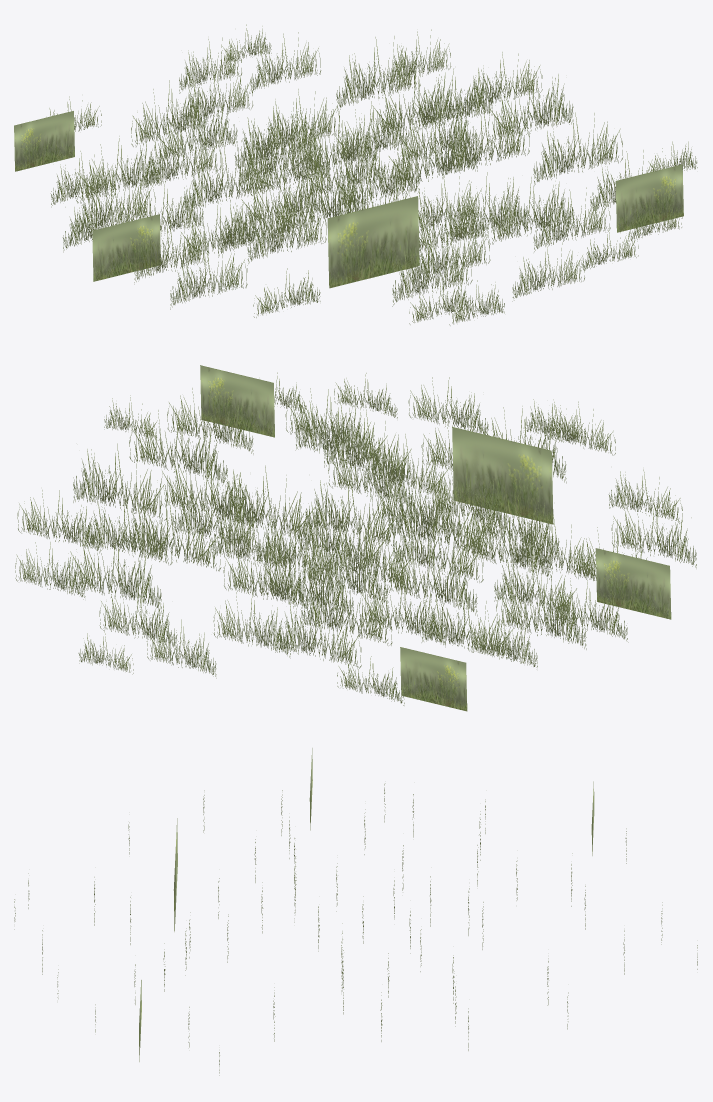
Rendered from grass2.obj.
3 views of the same model, one above another, from view 1: azimuth 30°, elevation 25°; view 2: azimuth 150°, elevation 25°; view 3: azimuth 270°, elevation 25° (orthographic). The views are drawn at different scales.
Parts seen in each view (by area): view 1: grass2; view 2: grass2; view 3: grass2.
Part boxes in pixels (left/top/right/bottom): grass2: left=14, top=24, right=697, bottom=325; grass2: left=15, top=365, right=696, bottom=711; grass2: left=14, top=748, right=697, bottom=1075.
Bounding box in the file's own units: 7.9 × 1.07 × 7.83.
Materials: 2 (2 with a texture image).
